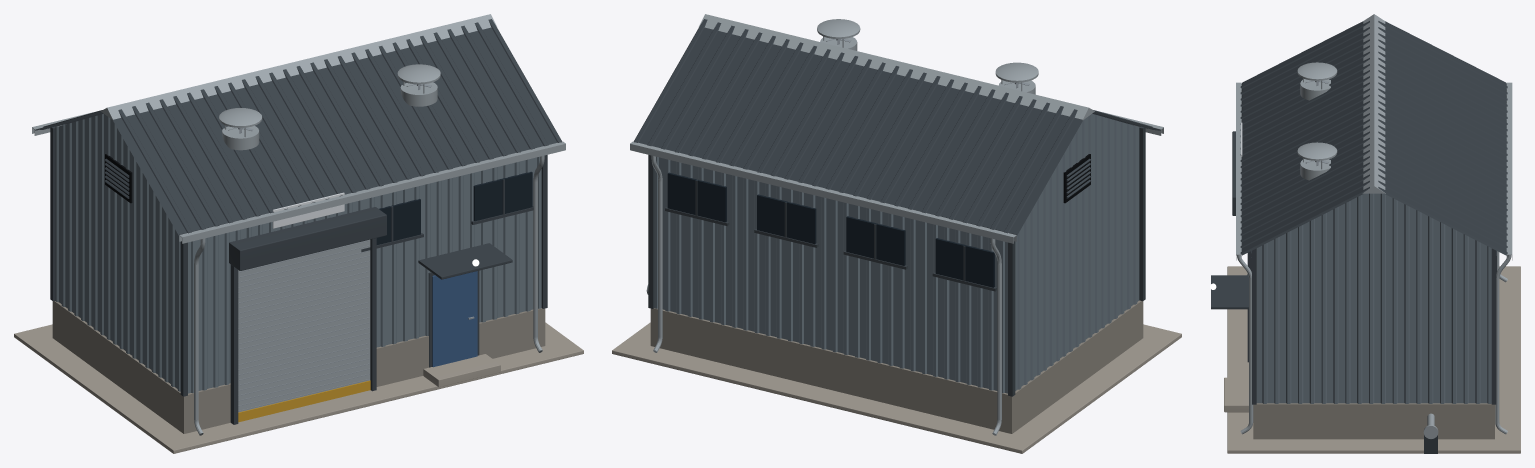
Rendered from building.glb.
3 renders of one model, left to right at view 1: azimuth 30°, elevation 25°; view 2: azimuth 150°, elevation 25°; view 3: azimuth 270°, elevation 25°, orthographic. The views are drawn at different scales.
Visible parts, largest first — view 1: BODY_shell, BODY_roof, BODY_rollup, BODY_pdoor, gutters, windows, BODY_fans, louvre, sign; view 2: BODY_shell, BODY_roof, windows, gutters, BODY_fans, louvre; view 3: BODY_shell, BODY_roof, gutters, BODY_pdoor, BODY_fans, BODY_rollup, drain.
Part boxes in pixels (bbox=[...]): BODY_shell: bbox=[14, 114, 583, 453]; BODY_roof: bbox=[35, 14, 562, 235]; BODY_rollup: bbox=[229, 207, 386, 424]; BODY_pdoor: bbox=[418, 243, 512, 387]; gutters: bbox=[32, 111, 565, 435]; windows: bbox=[361, 171, 533, 252]; BODY_fans: bbox=[219, 64, 440, 150]; louvre: bbox=[104, 154, 132, 203]; sign: bbox=[272, 192, 344, 228]; BODY_shell: bbox=[612, 114, 1181, 453]; BODY_roof: bbox=[633, 14, 1160, 235]; windows: bbox=[665, 172, 996, 291]; gutters: bbox=[630, 111, 1163, 435]; BODY_fans: bbox=[817, 19, 1038, 94]; louvre: bbox=[1063, 154, 1091, 203]; BODY_shell: bbox=[1227, 193, 1520, 453]; BODY_roof: bbox=[1240, 14, 1507, 255]; gutters: bbox=[1236, 82, 1512, 434]; BODY_pdoor: bbox=[1211, 275, 1248, 412]; BODY_fans: bbox=[1297, 62, 1337, 180]; BODY_rollup: bbox=[1232, 131, 1251, 362]; drain: bbox=[1423, 413, 1438, 453].
Bounding box in the file's own units: 9.43 × 6.1 × 6.57.
